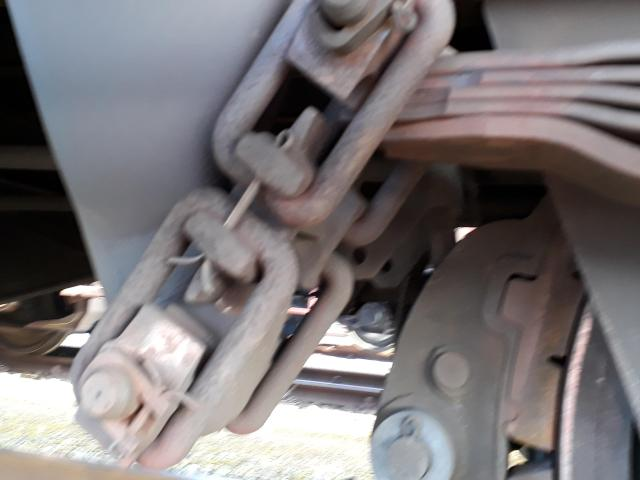blattfederww: (334, 42, 640, 178)
